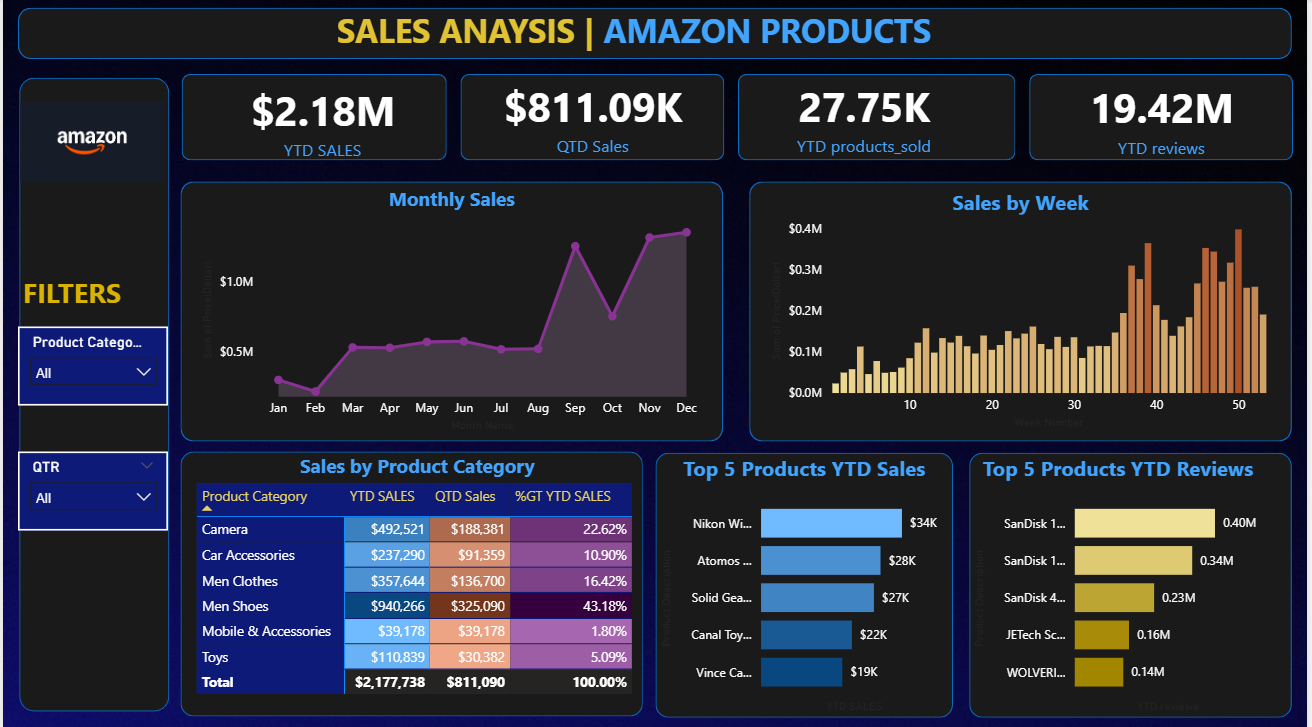

Layout of this report page (visuals, bound fields, positions):
{"tool":"powerbi","page":{"name":"Page 1","canvas":[1280,720],"ordinal":0},"visuals":[{"type":"shape","box":[175.5,73.6,260.1,84.7],"z":0,"group":"g1"},{"type":"shape","box":[16,77.3,147.2,622.1],"z":0},{"type":"shape","box":[14.7,8.6,1250.3,50.3],"z":1000},{"type":"shape","box":[449.1,73.6,258.9,84.7],"z":1000,"group":"g1"},{"type":"textbox","box":[322.7,3.7,634.4,55.2],"z":2000},{"type":"card","fields":{"Values":["Amazon_Data.YTD SALES"]},"box":[201,77.5,225.8,84.7],"z":2000,"group":"g1"},{"type":"group","id":"g1","title":"Group 1","box":[175.5,73.6,1090.8,88.3],"z":3000},{"type":"shape","box":[1007.4,73.6,258.9,84.7],"z":3000,"group":"g1"},{"type":"shape","box":[721.5,73.6,272.4,84.7],"z":4000,"group":"g1"},{"type":"shape","box":[174.2,179.1,532.5,255.2],"z":4000},{"type":"card","fields":{"Values":["Amazon_Data.YTD reviews"]},"box":[1024.6,74.8,225.8,84.7],"z":5000,"group":"g1"},{"type":"areaChart","title":"Monthly Sales","fields":{"Category":["Date Table.Month Name"],"Y":["Sum(Amazon_Data.Price(Dollar))"]},"box":[190.2,182.8,500.6,246.6],"z":5000},{"type":"card","fields":{"Values":["Amazon_Data.QTD Sales"]},"box":[466.3,73.6,225.8,84.7],"z":6000,"group":"g1"},{"type":"shape","box":[732.5,179.1,532.5,255.2],"z":6000},{"type":"card","fields":{"Values":["Amazon_Data.YTD products_sold"]},"box":[732.6,73.6,225.8,84.7],"z":7000,"group":"g1"},{"type":"columnChart","title":"Sales by Week","fields":{"Category":["Date Table.Week Number"],"Y":["Sum(Amazon_Data.Price(Dollar))"]},"box":[747.9,185.2,500.9,241.5],"z":7000},{"type":"shape","box":[174.2,444.2,454,260.1],"z":8000},{"type":"pivotTable","title":"Sales by Product Category","fields":{"Rows":["Amazon_Data.Product Category"],"Values":["Amazon_Data.YTD SALES1","Amazon_Data.QTD Sales","Amazon_Data.YTD SALES"]},"box":[185.3,445.4,442.9,244.2],"z":9000},{"type":"shape","box":[640.5,445.4,292,260.1],"z":10000},{"type":"shape","box":[948.5,445.4,316.6,260.1],"z":11000},{"type":"barChart","title":"Top 5 Products YTD Sales","fields":{"Category":["Amazon_Data.Product Description"],"Y":["Amazon_Data.YTD SALES"]},"box":[640.5,446.6,292,258.9],"z":12000},{"type":"barChart","title":"Top 5 Products YTD Reviews","fields":{"Category":["Amazon_Data.Product Description"],"Y":["Amazon_Data.YTD reviews"]},"box":[948.5,446.6,292,258.9],"z":13000},{"type":"slicer","fields":{"Values":["Date Table.QTR"]},"box":[14.8,444.2,147.2,77.3],"z":15000,"group":"g2"},{"type":"image","box":[12.3,34.4,150.9,212.3],"z":16000,"group":"g2"},{"type":"group","id":"g2","title":"Group 2","box":[12.3,34.4,150.9,487.1],"z":16002},{"type":"slicer","fields":{"Values":["Amazon_Data.Product Category"]},"box":[14.8,321.5,147.2,77.3],"z":16501,"group":"g2"},{"type":"textbox","box":[14.8,265.1,116.6,56.4],"z":17001,"group":"g2"}]}

Visuals, with their boxes in screenshot pixels (x1, y1, x2, y2), scaled from the page's 1280x720 canvas onto the 1312x727 screenshot:
shape: 180:74:446:160
shape: 16:78:167:706
shape: 15:9:1297:59
shape: 460:74:726:160
textbox: 331:4:981:59
card - Amazon_Data.YTD SALES: 206:78:437:164
"Group 1" group: 180:74:1298:163
shape: 1033:74:1298:160
shape: 740:74:1019:160
shape: 179:181:724:439
card - Amazon_Data.YTD reviews: 1050:76:1282:161
"Monthly Sales" areaChart: 195:185:708:434
card - Amazon_Data.QTD Sales: 478:74:709:160
shape: 751:181:1297:439
card - Amazon_Data.YTD products_sold: 751:74:982:160
"Sales by Week" columnChart: 767:187:1280:431
shape: 179:449:644:711
"Sales by Product Category" pivotTable: 190:450:644:696
shape: 657:450:956:712
shape: 972:450:1297:712
"Top 5 Products YTD Sales" barChart: 657:451:956:712
"Top 5 Products YTD Reviews" barChart: 972:451:1272:712
slicer - Date Table.QTR: 15:449:166:527
image: 13:35:167:249
"Group 2" group: 13:35:167:527
slicer - Amazon_Data.Product Category: 15:325:166:403
textbox: 15:268:135:325
